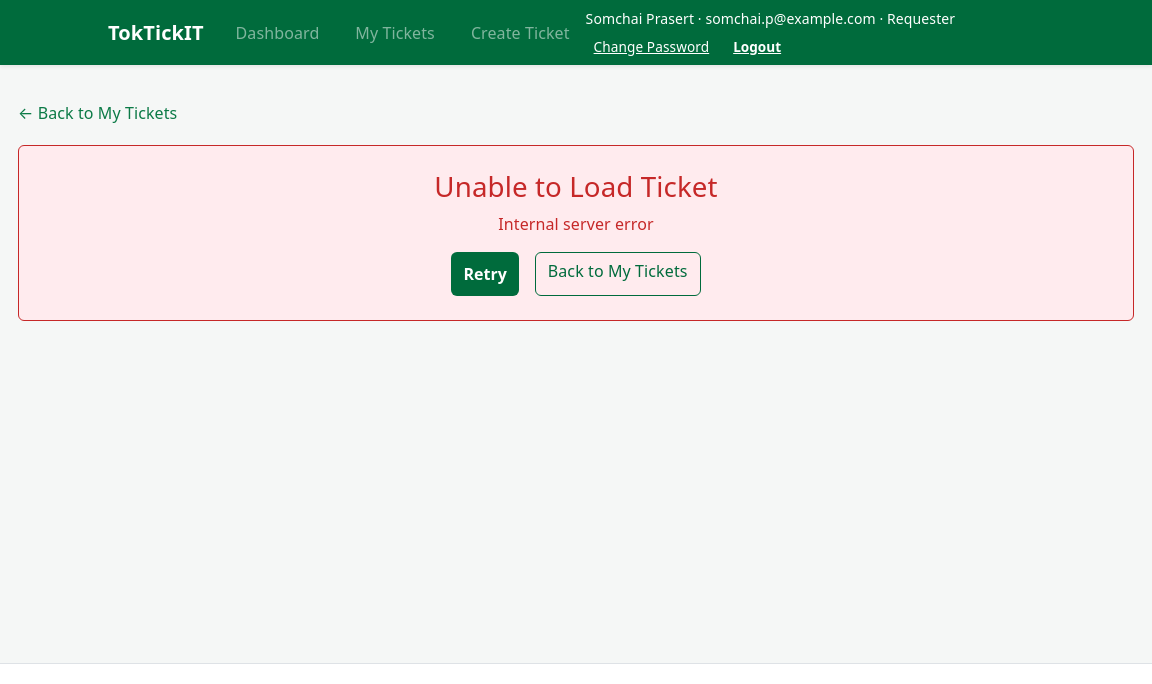
Test: Requester Ticket Detail screen › shows an unexpected failure safely and retries without leaving the page
Expected: the heading "Unable to Load Ticket" is shown, [434,167,718,205]
Expected: the text "Internal server error" is shown, [498,213,654,235]
Click the button "Retry" at (485, 274), box [452,252,519,296]
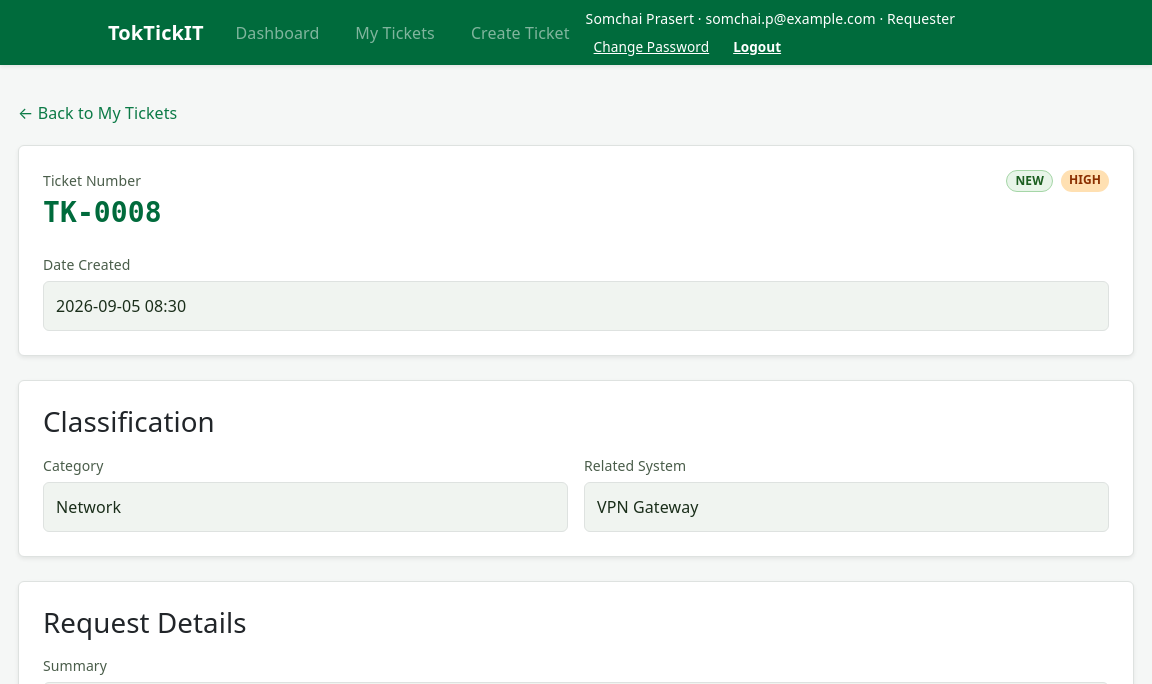
Result: the heading "TK-0008" is shown at [43,195,162,230]
